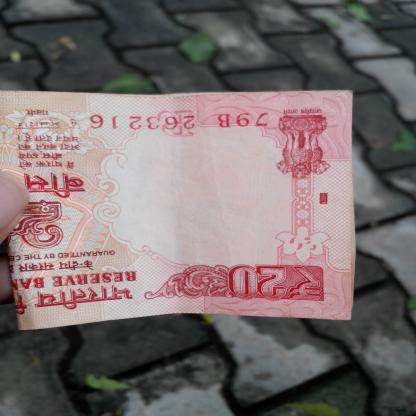Old20Front: (0, 95, 347, 326)
